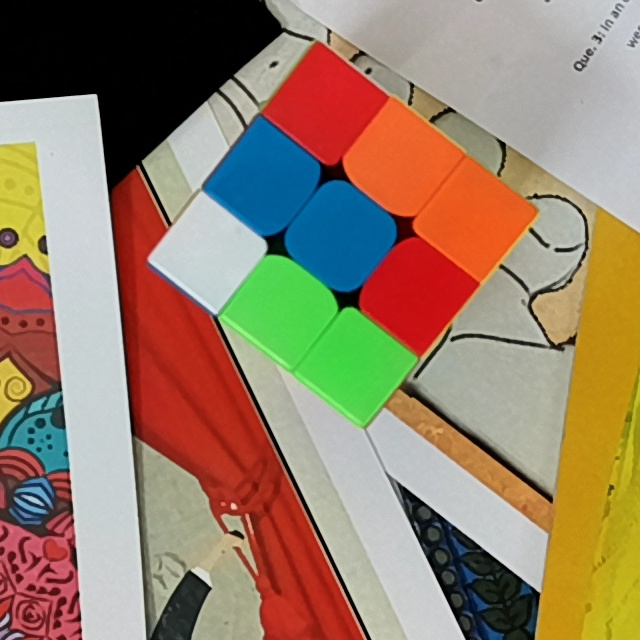tile: (367, 127, 434, 192), (442, 186, 507, 251), (308, 204, 377, 265), (293, 75, 359, 136), (248, 276, 314, 337), (384, 262, 449, 323), (234, 149, 296, 212), (178, 222, 239, 284), (328, 335, 387, 389)
